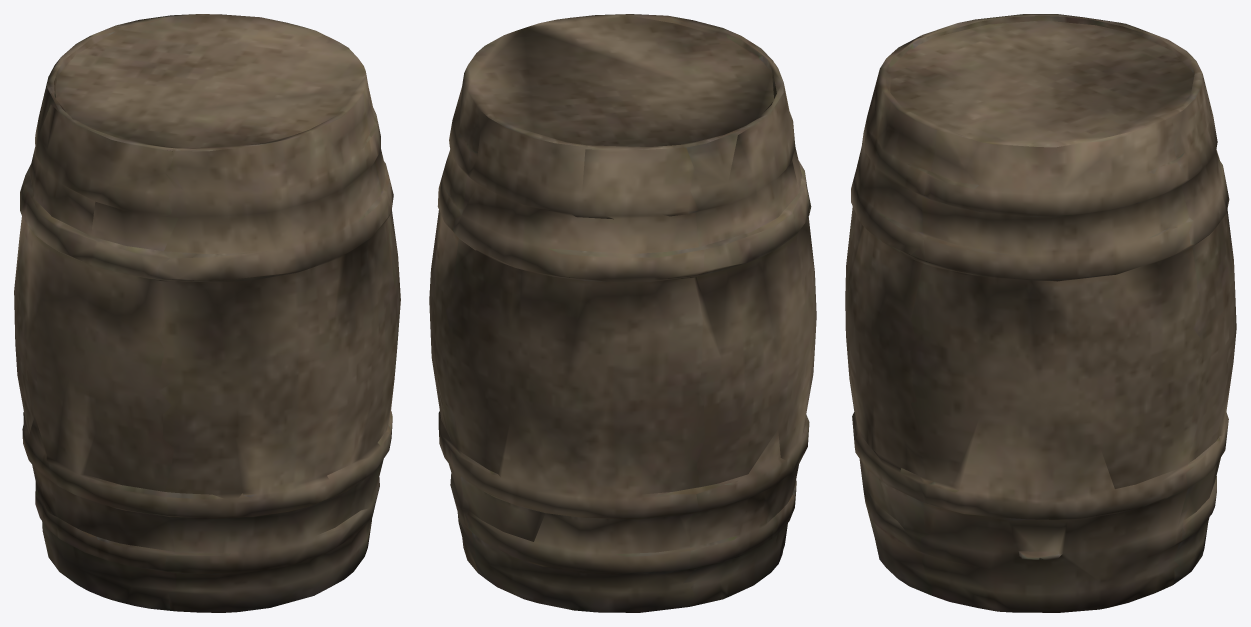
Rendered from wooden-barrel-v001.glb.
3 views of the same model, side by side, from view 1: azimuth 30°, elevation 25°; view 2: azimuth 150°, elevation 25°; view 3: azimuth 270°, elevation 25° (orthographic).
Parts seen in each view (by area): view 1: wooden-barrel; view 2: wooden-barrel; view 3: wooden-barrel.
Boxes of the visible parts, x1=… form: wooden-barrel: x1=14, y1=14, x2=400, y2=612; wooden-barrel: x1=429, y1=14, x2=816, y2=612; wooden-barrel: x1=845, y1=14, x2=1236, y2=612.
Size of the model in its own units: 0.757 by 0.9996 by 0.7531.
1 material, 1 textured.
